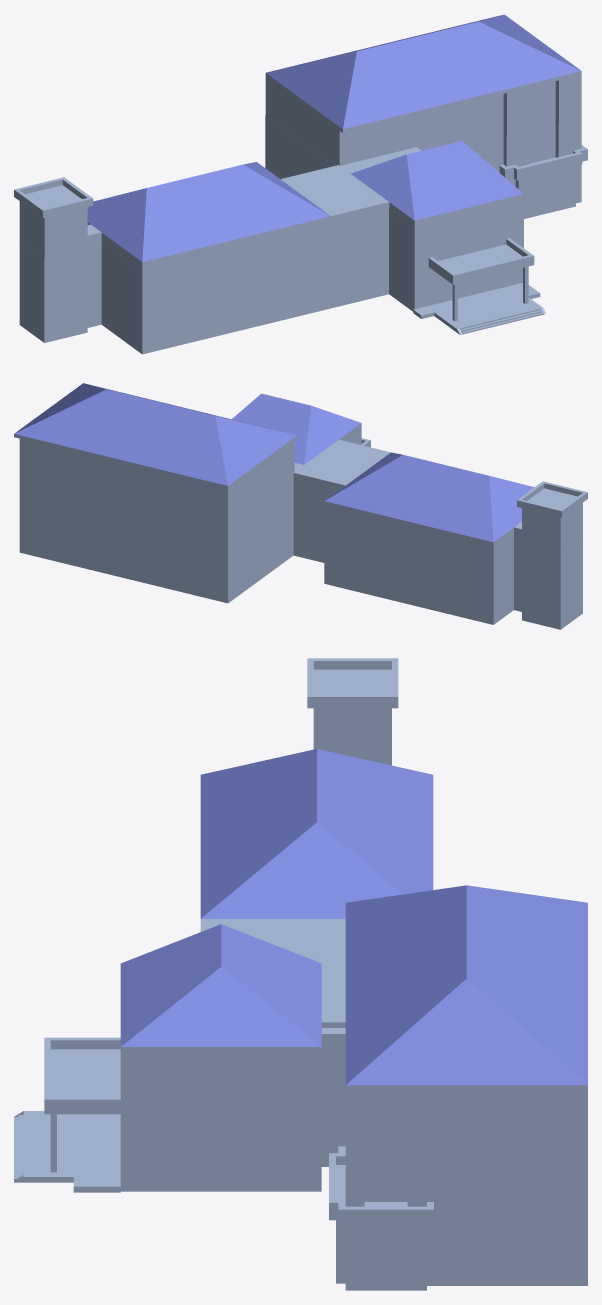
Rendered from Administration_Complex.glb.
3 views of the same model, one above another, from view 1: azimuth 30°, elevation 25°; view 2: azimuth 150°, elevation 25°; view 3: azimuth 270°, elevation 25° (orthographic). The views are drawn at different scales.
Visible parts, largest first — view 1: Administration_Complex; view 2: Administration_Complex; view 3: Administration_Complex.
Boxes of the visible parts, x1,y1,x2,y2 form: Administration_Complex: (14,14,587,354); Administration_Complex: (14,383,587,629); Administration_Complex: (14,658,587,1290).
Bounding box in the file's own units: 62.95 × 18.2 × 36.
